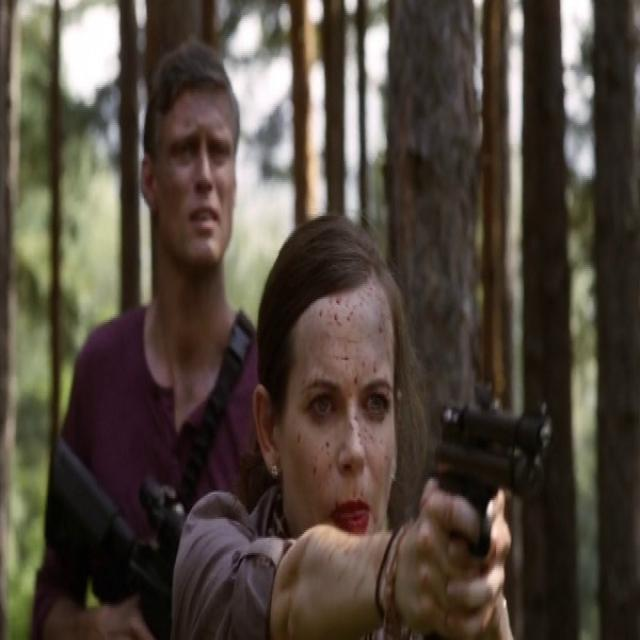weapons: (422, 382, 559, 628)
